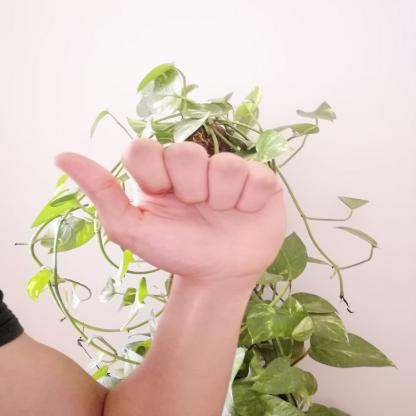DAD: (36, 129, 301, 289)
